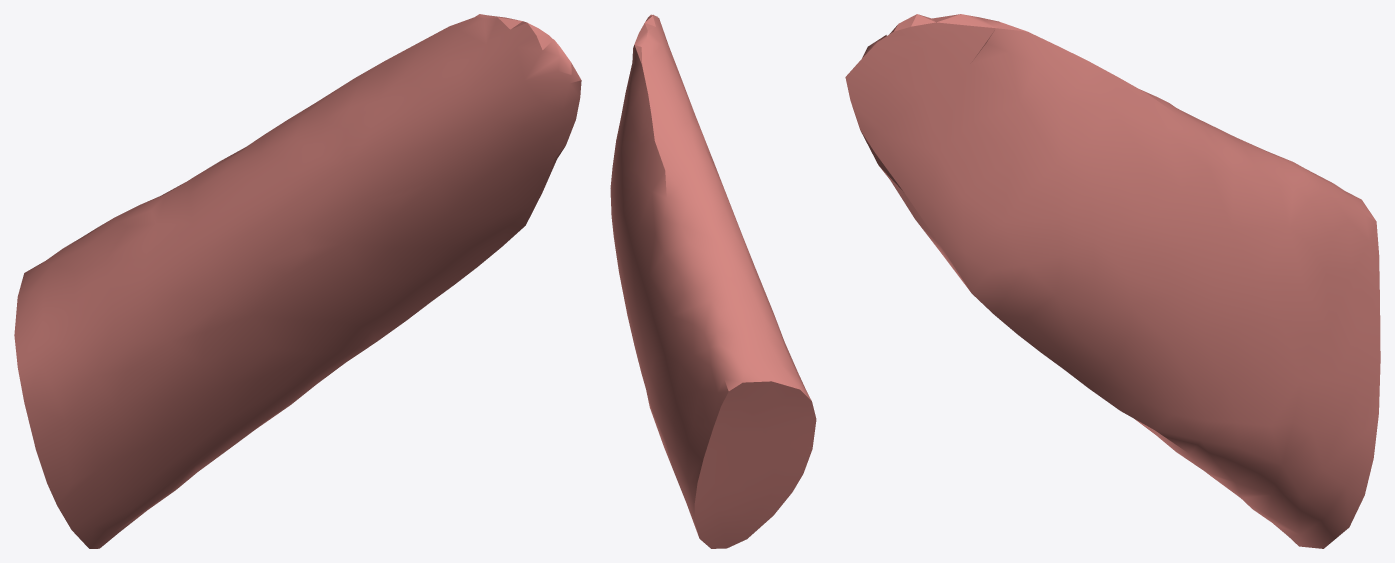
File: fma298609_mm4000.glb
3 renders of one model, left to right at view 1: azimuth 30°, elevation 25°; view 2: azimuth 150°, elevation 25°; view 3: azimuth 270°, elevation 25°, orthographic. The views are drawn at different scales.
Visible parts, largest first — view 1: FMA298609_MM4000; view 2: FMA298609_MM4000; view 3: FMA298609_MM4000.
Part boxes in pixels (x1,y1,x2,y2): FMA298609_MM4000: (14,14,581,548); FMA298609_MM4000: (610,14,816,548); FMA298609_MM4000: (845,14,1380,548).
Bounding box in the file's own units: 0.0223 × 0.0313 × 0.0221.
